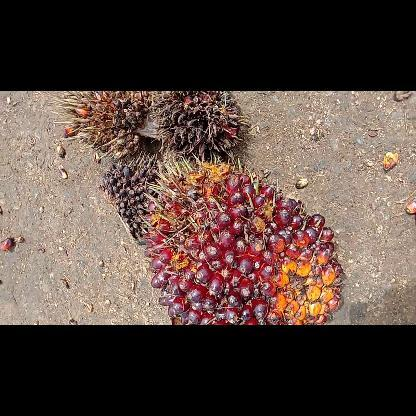TBS abnormal: (46, 92, 156, 158), (148, 92, 246, 164), (99, 160, 159, 240)
TBS masak: (136, 160, 344, 324)
